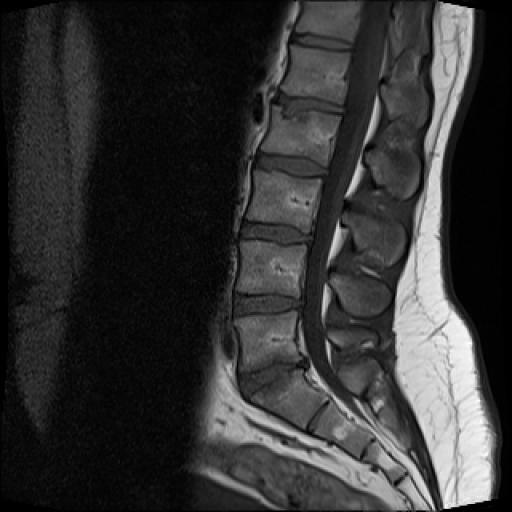L1: (281, 45, 350, 104)
L2: (262, 105, 340, 166)
L3: (246, 170, 322, 234)
L4: (238, 242, 304, 298)
L5: (235, 311, 303, 372)
S1: (249, 370, 327, 430)
